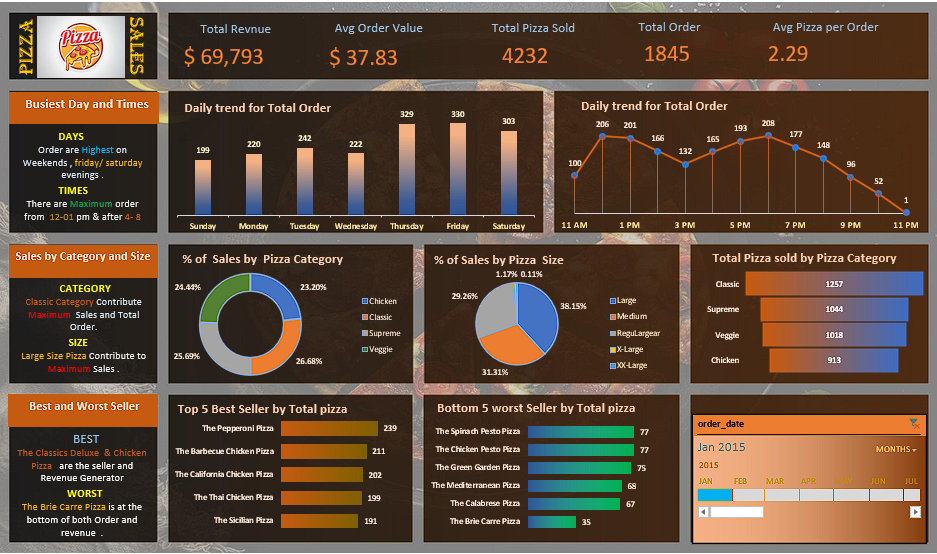

What the dashboard file says about the page in this screenshot:
{"tool":"powerbi","page":{"name":"Home","canvas":[1500,820],"ordinal":0},"visuals":[{"type":"shape","box":[15.5,8.5,1466.6,65],"z":0},{"type":"textbox","box":[601.9,5.4,295.5,44.9],"z":1000},{"type":"image","box":[566.5,12.3,38.1,38.1],"z":2000},{"type":"slicer","fields":{"Values":["pizza_sales.order_date"]},"box":[1252.5,3.9,220.1,73.4],"z":6000},{"type":"textbox","box":[686.3,39.5,128,30],"z":7000},{"type":"shape","box":[7.2,74.5,250.1,744.2],"z":8000},{"type":"shape","box":[257.4,222,567.8,307.7],"z":9000},{"type":"cardVisual","fields":{"Data":["pizza_sales.Total Revenue","pizza_sales.Avg Order Value","pizza_sales.Total Pizzas Sold","pizza_sales.Total Orders","pizza_sales.Avg Pizzas Per Order"]},"box":[257.5,79.8,1233.2,140.3],"z":10000},{"type":"shape","box":[257.5,529.1,399.1,288.4],"z":11000},{"type":"shape","box":[825.2,223.3,665.9,306.4],"z":12000},{"type":"areaChart","fields":{"Category":["pizza_sales.Month"],"Y":["pizza_sales.Total Orders"]},"box":[841.9,234.3,632.1,283.2],"z":13000},{"type":"columnChart","fields":{"Y":["pizza_sales.Total Orders"],"Category":["pizza_sales.Day Name"]},"box":[269,234.3,544.5,283.2],"z":14000},{"type":"shape","box":[656.5,529.1,413.2,288.4],"z":15000},{"type":"shape","box":[1069.7,529.1,420.9,288.4],"z":16000},{"type":"donutChart","title":"% of Sales by Pizza Category","fields":{"Category":["pizza_sales.pizza_category"],"Y":["pizza_sales.Total Revenue"]},"box":[273.3,550.2,372.4,251.8],"z":17000},{"type":"donutChart","title":"% of Sales by Pizza Category","fields":{"Y":["pizza_sales.Total Revenue"],"Category":["pizza_sales.pizza_size"]},"box":[674.4,550.2,378.4,251.8],"z":18000},{"type":"funnel","title":"Total Pizzas Sold by Pizza Category","fields":{"Category":["pizza_sales.pizza_category"],"Y":["pizza_sales.Total Pizzas Sold"]},"box":[1090.9,550.2,380.8,251.8],"z":19000},{"type":"pageNavigator","box":[15.6,161.1,232,50.5],"z":20000},{"type":"textbox","box":[15.6,272.9,232,245.3],"z":21000},{"type":"textbox","box":[15.4,230.4,231.7,42.5],"z":22000},{"type":"textbox","box":[15.4,539.4,231.7,42.5],"z":23000},{"type":"textbox","box":[15.4,575.4,231.7,229.1],"z":24000},{"type":"pageNavigator","box":[15.6,99.8,232,50.5],"z":25000},{"type":"image","box":[11.6,106.8,43.8,37.3],"z":26000},{"type":"image","box":[209.8,108.1,37.3,37.3],"z":27000},{"type":"image","box":[11.6,167.3,42.5,36],"z":28000}]}

Visuals, with their boxes on the page's 1500x820 design canvas (x1, y1, x2, y2). These are canvas units, not pixel positions in the 937x554 screenshot, which may show the page scaled, cropped or inside an application window:
shape: x1=16 y1=8 x2=1482 y2=74
textbox: x1=602 y1=5 x2=897 y2=50
image: x1=566 y1=12 x2=605 y2=50
slicer - pizza_sales.order_date: x1=1252 y1=4 x2=1473 y2=77
textbox: x1=686 y1=40 x2=814 y2=70
shape: x1=7 y1=74 x2=257 y2=819
shape: x1=257 y1=222 x2=825 y2=530
cardVisual - pizza_sales.Total Revenue x pizza_sales.Avg Order Value: x1=258 y1=80 x2=1491 y2=220
shape: x1=258 y1=529 x2=657 y2=818
shape: x1=825 y1=223 x2=1491 y2=530
areaChart - pizza_sales.Month x pizza_sales.Total Orders: x1=842 y1=234 x2=1474 y2=518
columnChart - pizza_sales.Total Orders x pizza_sales.Day Name: x1=269 y1=234 x2=814 y2=518
shape: x1=656 y1=529 x2=1070 y2=818
shape: x1=1070 y1=529 x2=1491 y2=818
"% of Sales by Pizza Category" donutChart: x1=273 y1=550 x2=646 y2=802
"% of Sales by Pizza Category" donutChart: x1=674 y1=550 x2=1053 y2=802
"Total Pizzas Sold by Pizza Category" funnel: x1=1091 y1=550 x2=1472 y2=802
pageNavigator: x1=16 y1=161 x2=248 y2=212
textbox: x1=16 y1=273 x2=248 y2=518
textbox: x1=15 y1=230 x2=247 y2=273
textbox: x1=15 y1=539 x2=247 y2=582
textbox: x1=15 y1=575 x2=247 y2=804
pageNavigator: x1=16 y1=100 x2=248 y2=150
image: x1=12 y1=107 x2=55 y2=144
image: x1=210 y1=108 x2=247 y2=145
image: x1=12 y1=167 x2=54 y2=203
